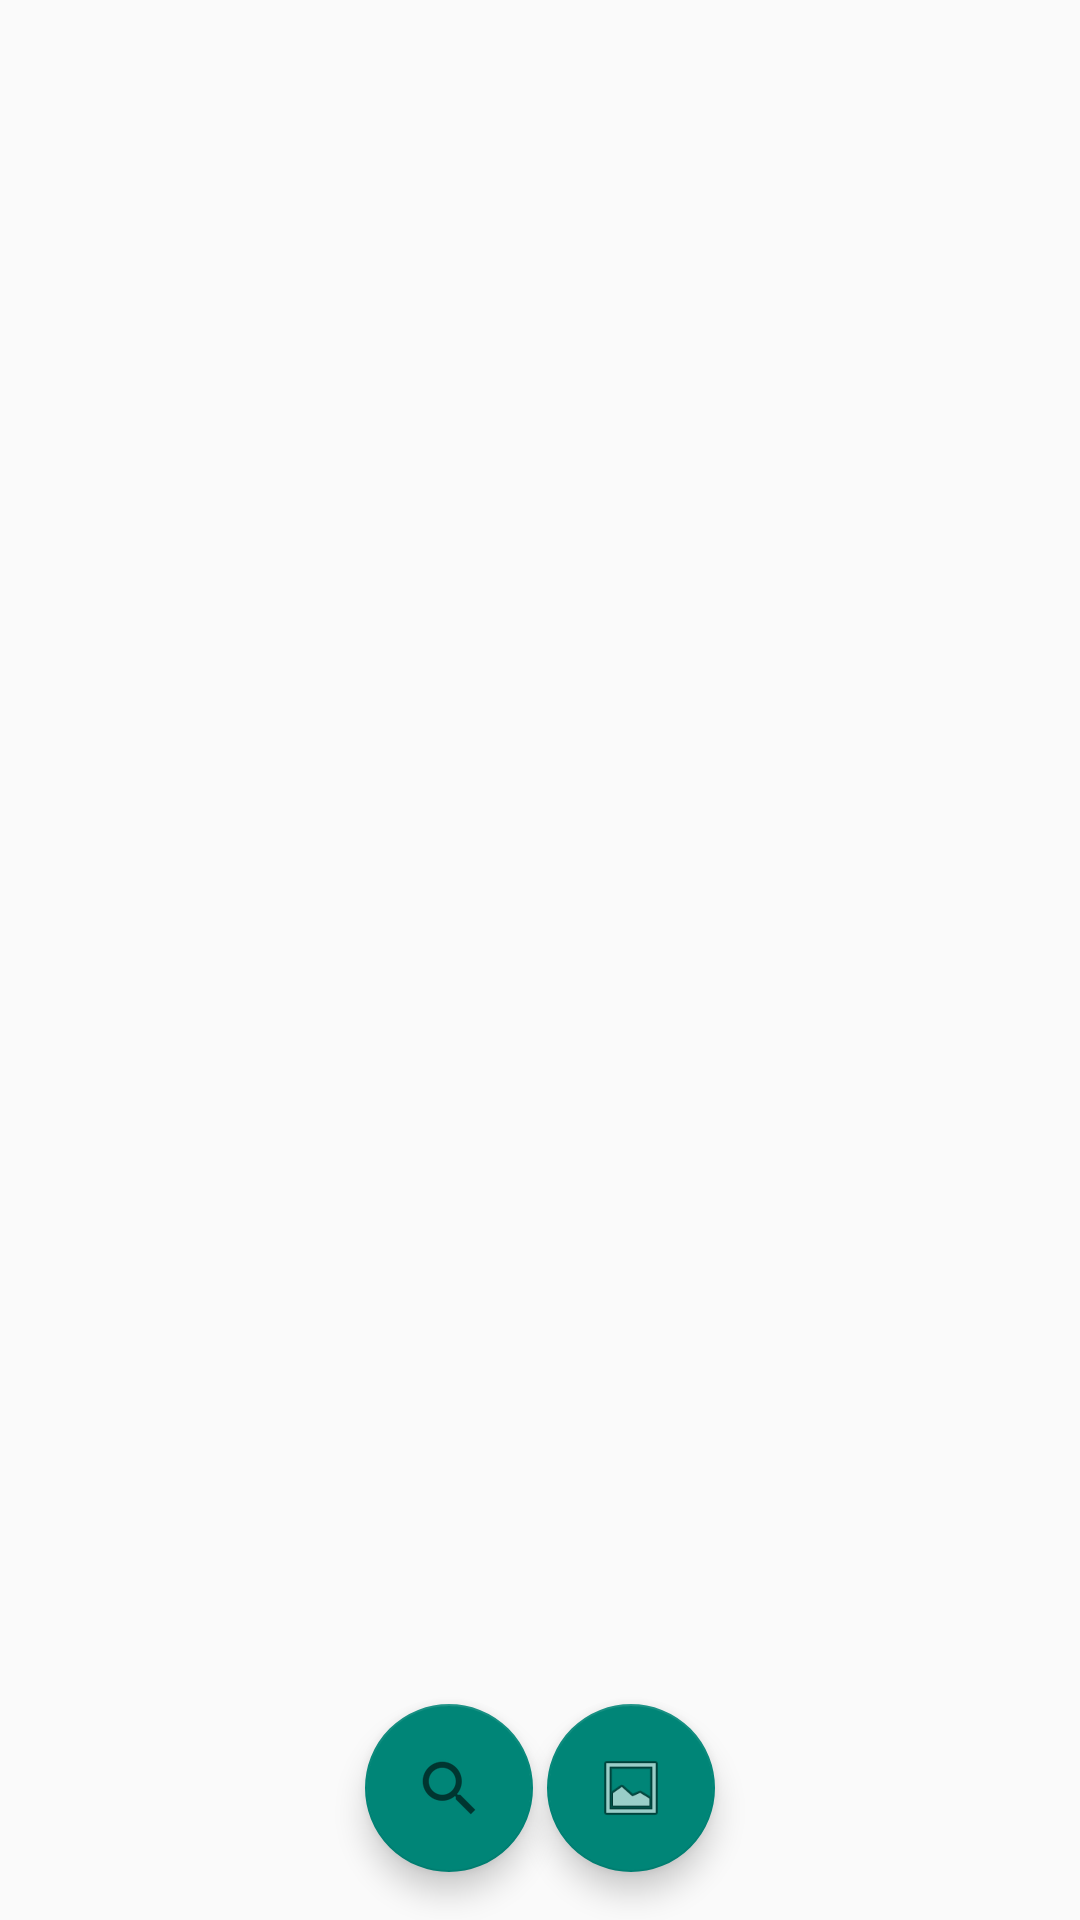

Where icons sit on this 1080 × 1920 app screen, as (x1, y1, x2, y2):
gallery: (547, 1704, 715, 1872)
